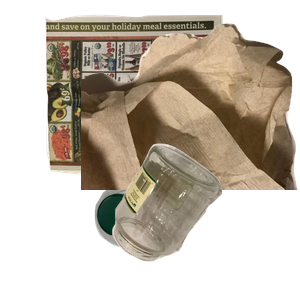glass: (110, 141, 300, 300)
paper: (42, 12, 260, 185)
plastic: (92, 176, 257, 300)
trash: (81, 21, 300, 201)
